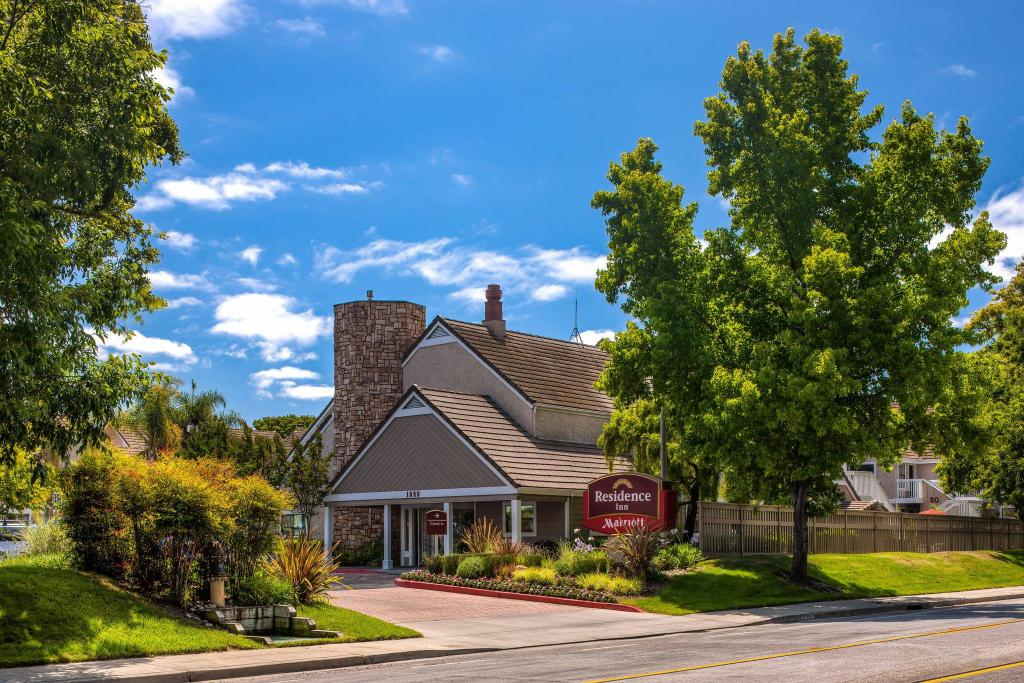tree: (590, 25, 1009, 583)
